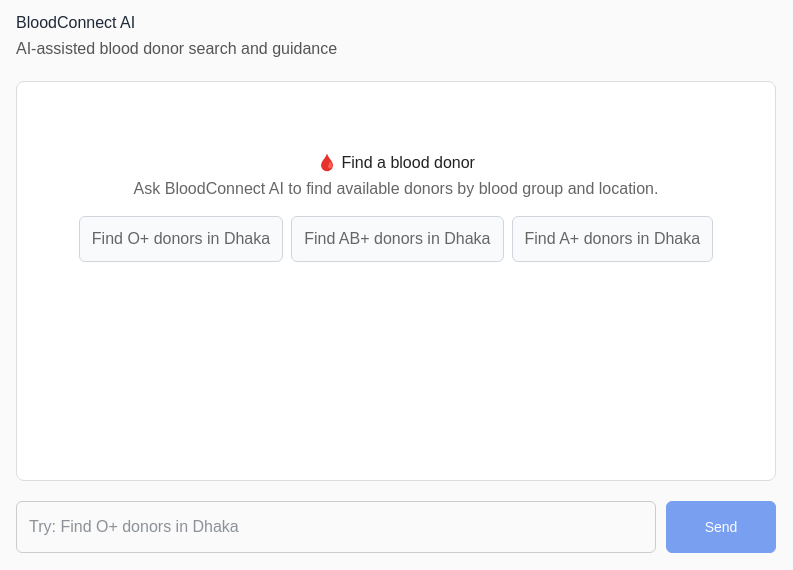
Test: BloodConnect AI Chat › enables Send when the user enters a message
The width and height of the screenshot is (793, 570).
Type "Find O+ donors in Dhaka" into the field named "Ask BloodConnect AI" at (336, 527), box [16,501,656,553]
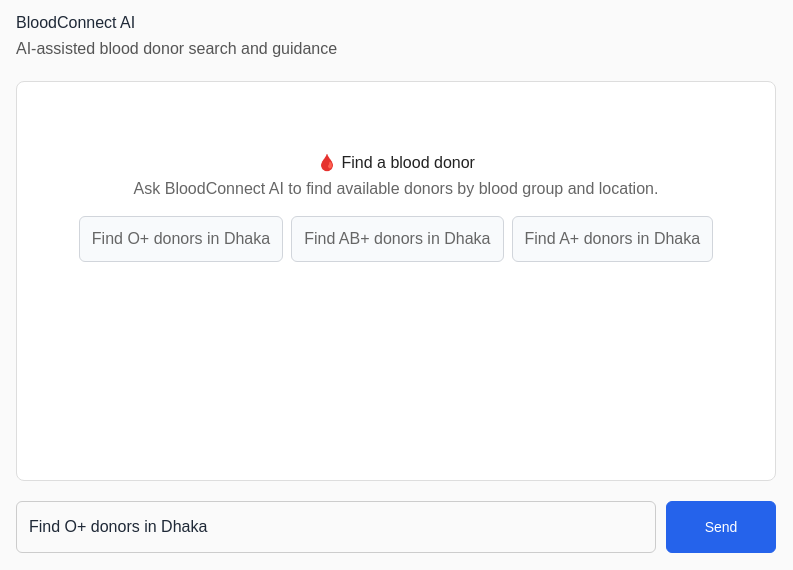
Now the button with aria-label "Send message" is enabled, box [666,501,776,553]
